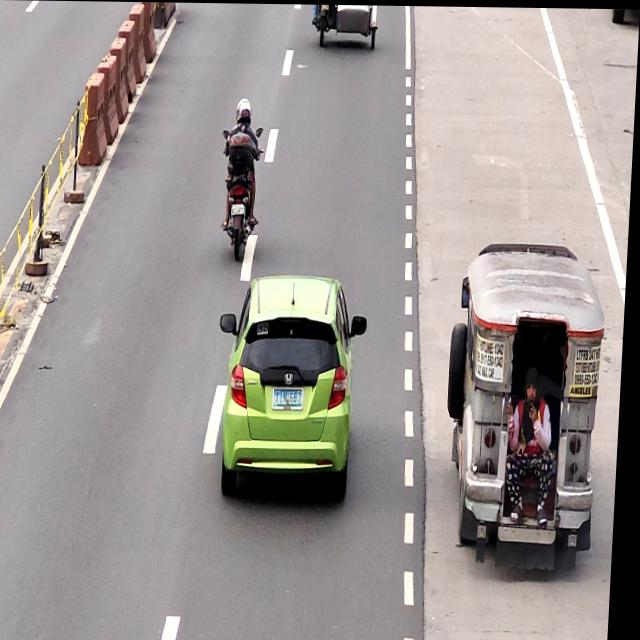Car: (226, 272, 365, 492)
Jeep: (448, 245, 610, 565)
License-Plate: (275, 388, 308, 409), (232, 203, 247, 213)
Motorcycle: (223, 97, 262, 259)
Tricycle: (314, 4, 379, 45)
